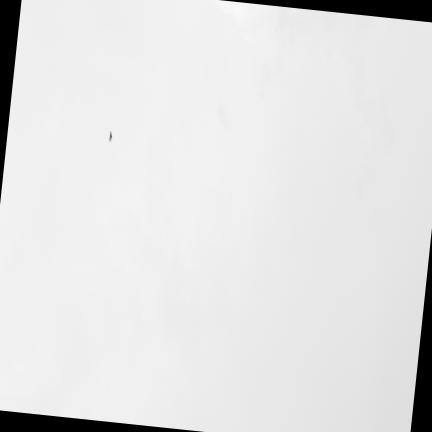Shahed: (109, 130, 112, 140)
